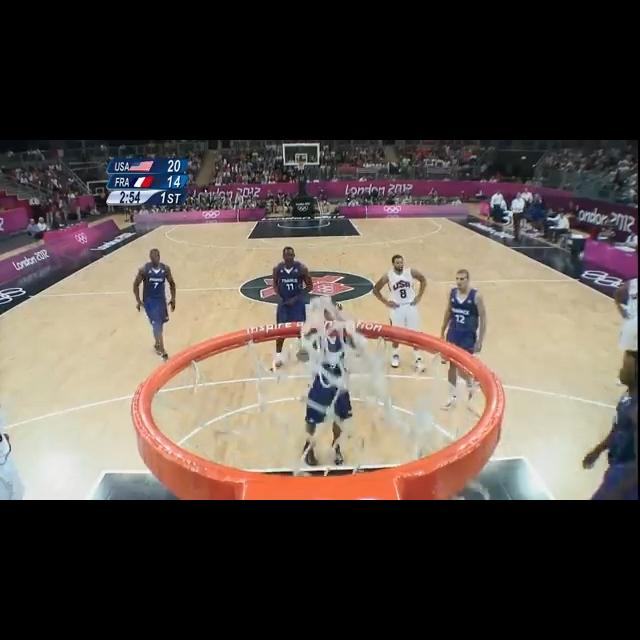hoop: (112, 326, 532, 500), (295, 162, 306, 171)
person: (374, 253, 429, 370), (133, 247, 177, 360), (272, 245, 313, 362)
